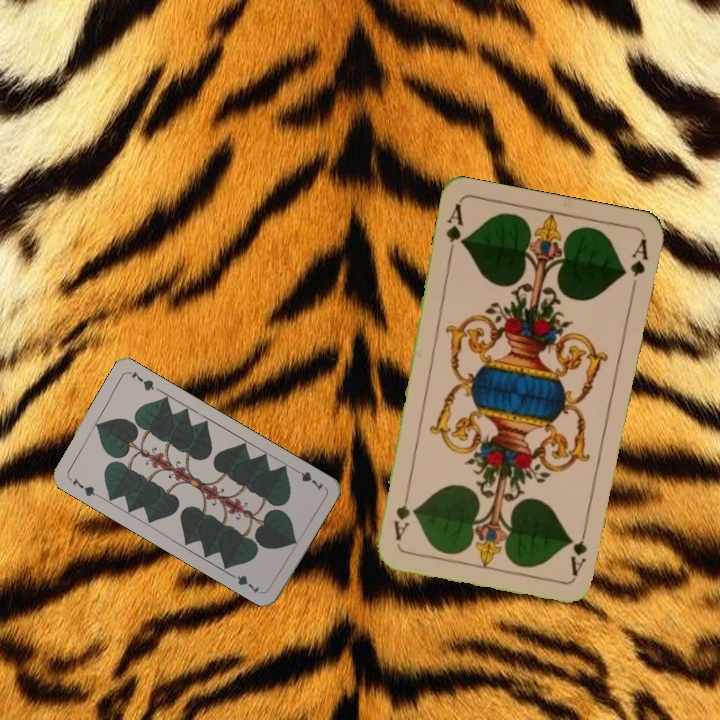G7: (289, 464, 326, 493), (64, 474, 101, 499)
GA: (442, 200, 467, 260), (567, 520, 591, 578)
